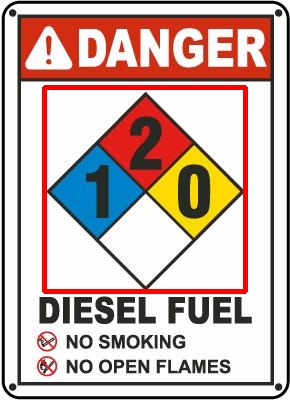nfpa: (44, 87, 245, 291)
